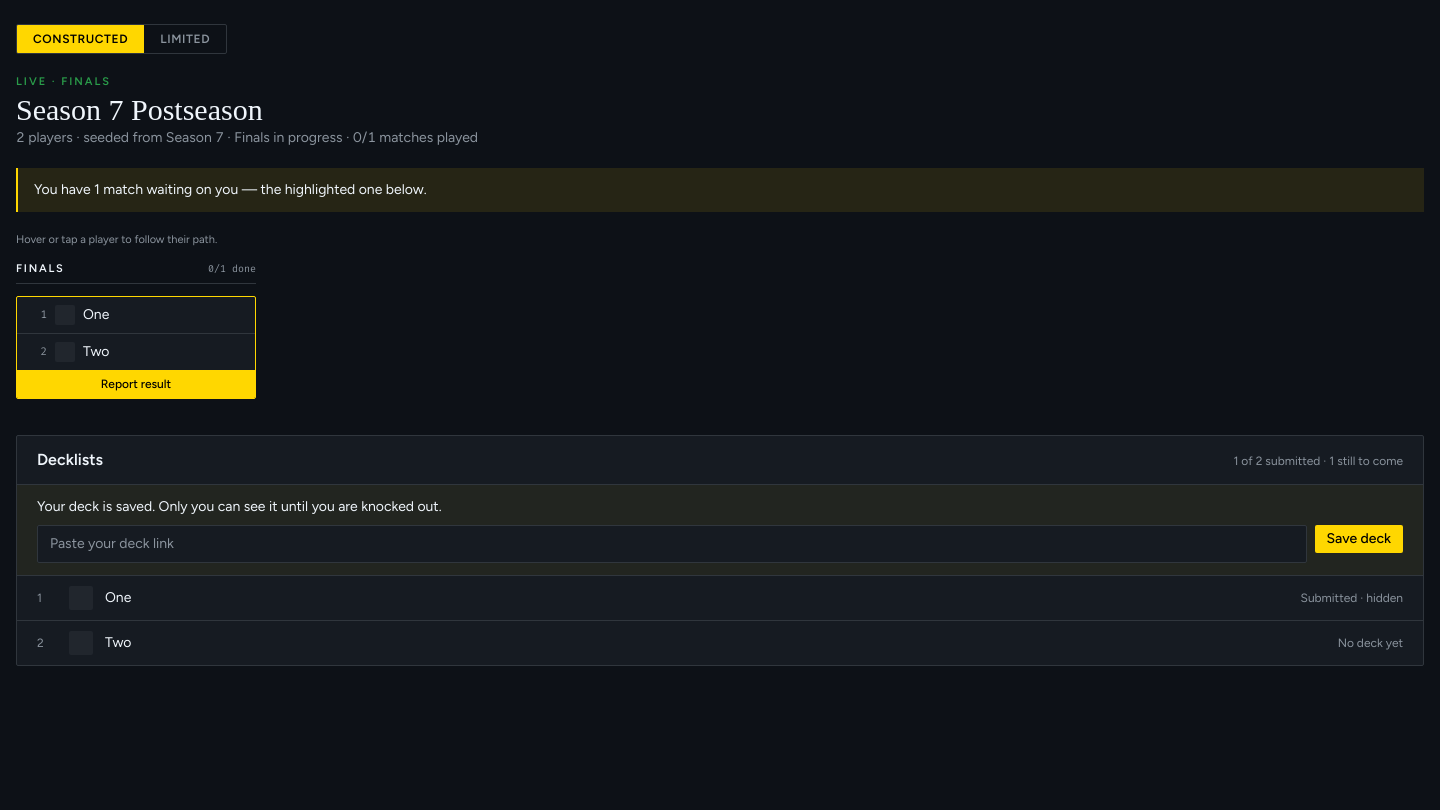
Test: Bracket page › reports a result through the modal
Click the button "Report result" at (136, 384), box [17,370,255,398]
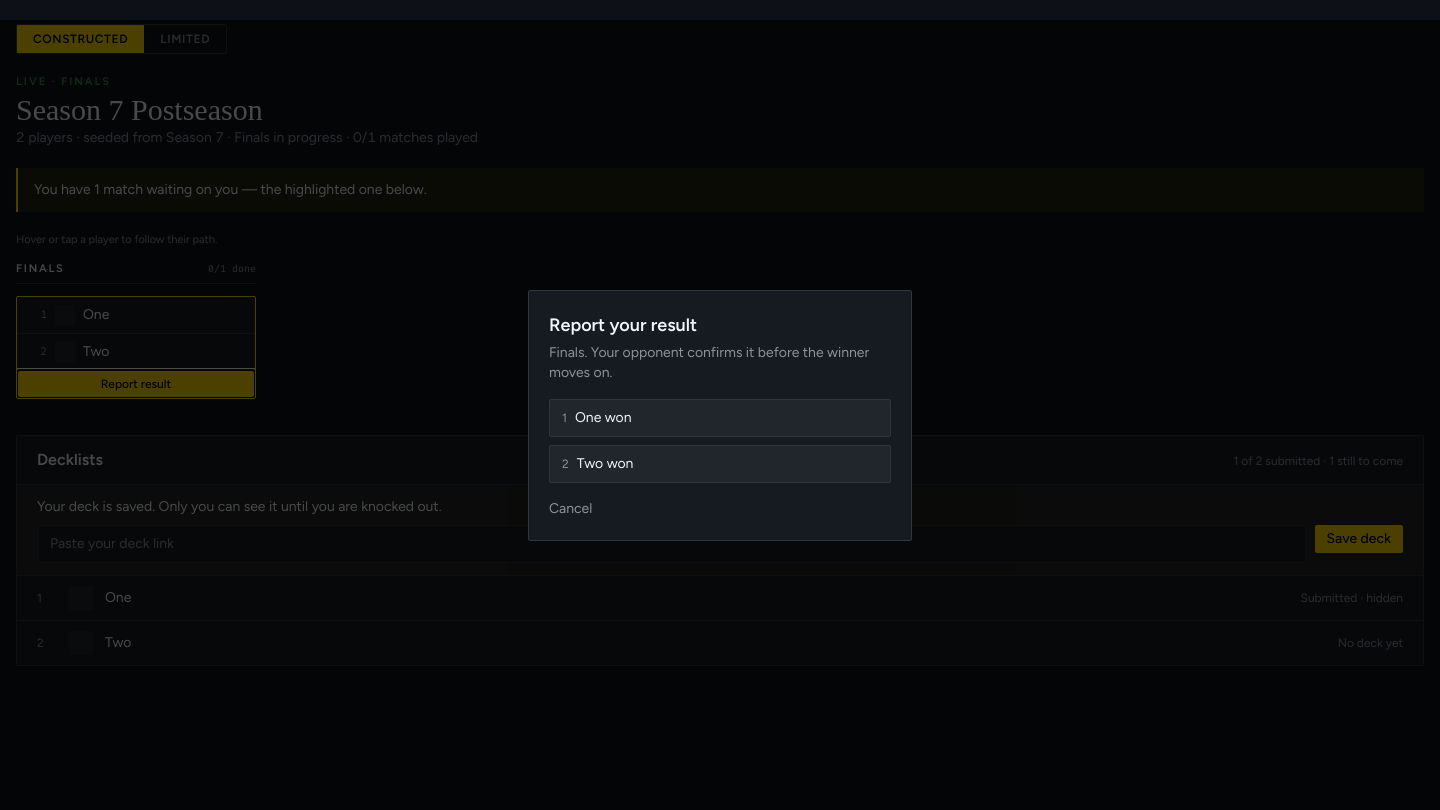
Now the heading "Report your result" is shown, box [549,314,697,336]
Click the button "1One won" at (616, 417), box [549,398,891,436]
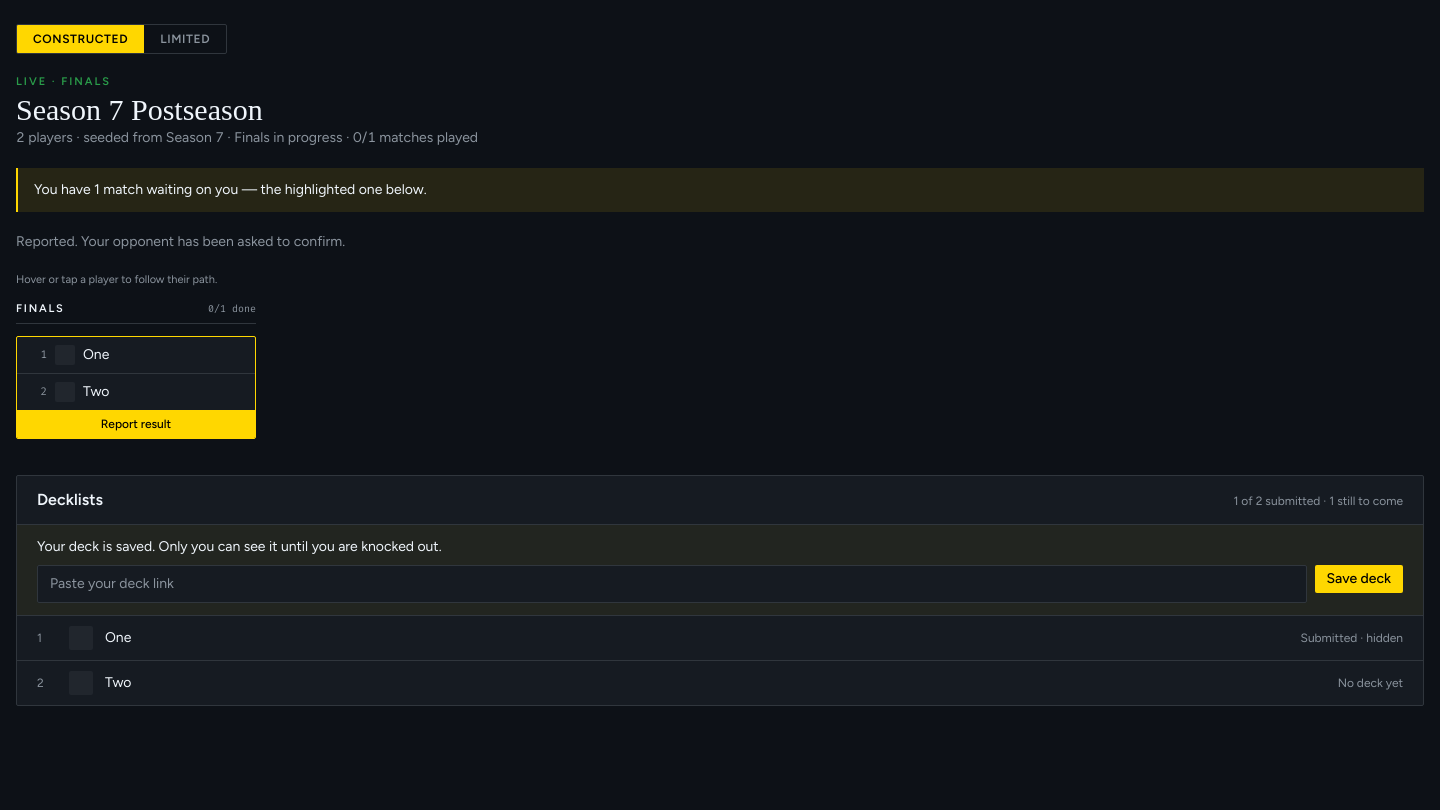
Now the text "Reported. Your opponent has been asked to confirm." is shown, box [16,233,345,250]
